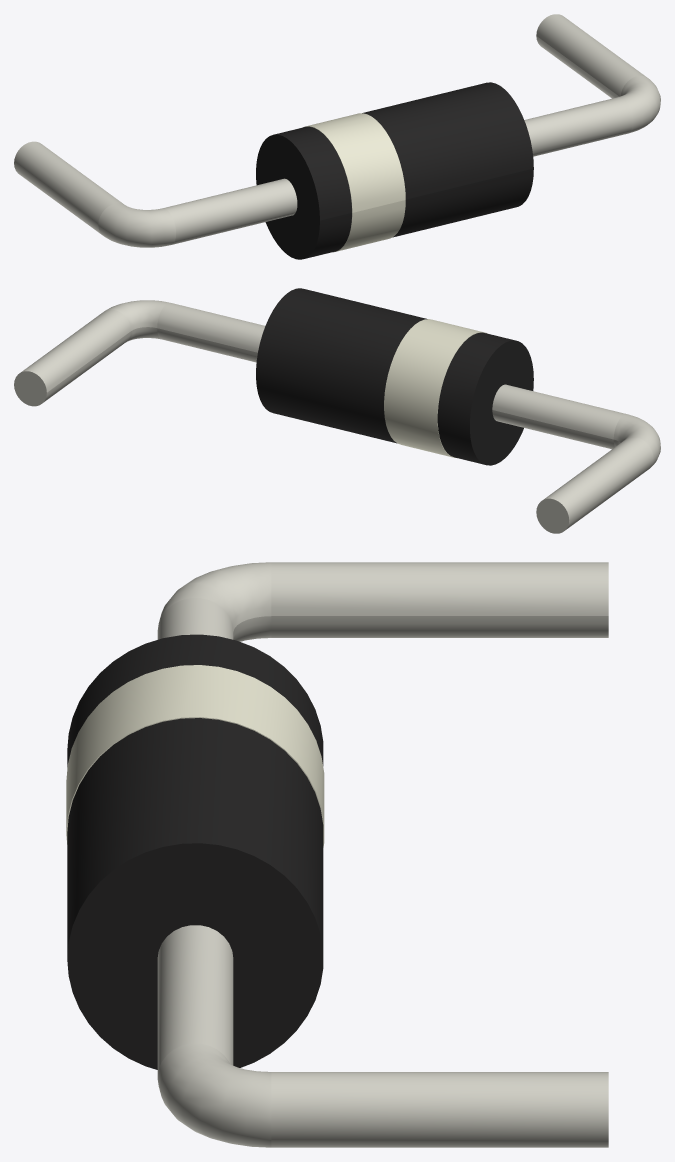
Rendered from D_DO-41_SOD81_P12.70mm_Horizontal.glb.
The picture shows the model from 3 angles, top to bottom: view 1: azimuth 30°, elevation 25°; view 2: azimuth 150°, elevation 25°; view 3: azimuth 270°, elevation 25°; orthographic projection. The views are drawn at different scales.
Visible parts, largest first — view 1: D_DO-41_SOD81_P12.70mm_Horizontal; view 2: D_DO-41_SOD81_P12.70mm_Horizontal; view 3: D_DO-41_SOD81_P12.70mm_Horizontal.
Boxes of the visible parts, <box> form: D_DO-41_SOD81_P12.70mm_Horizontal: <box>14,14,660,259</box>; D_DO-41_SOD81_P12.70mm_Horizontal: <box>14,288,660,533</box>; D_DO-41_SOD81_P12.70mm_Horizontal: <box>66,562,608,1147</box>.
Size of the model in its own units: 13.5 by 2.72 by 5.71.
